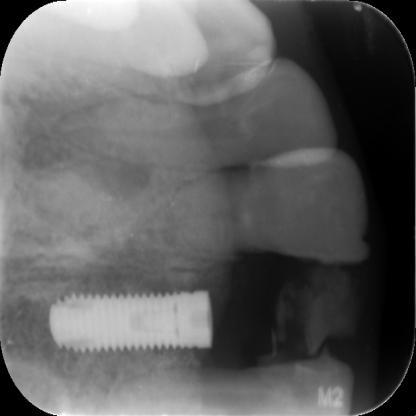Bego: (46, 279, 221, 354)
